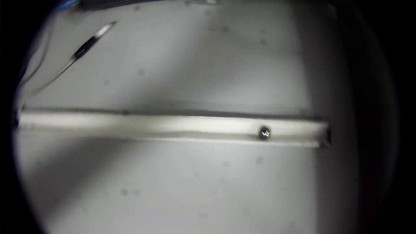gangzhu: (257, 125, 271, 140)
